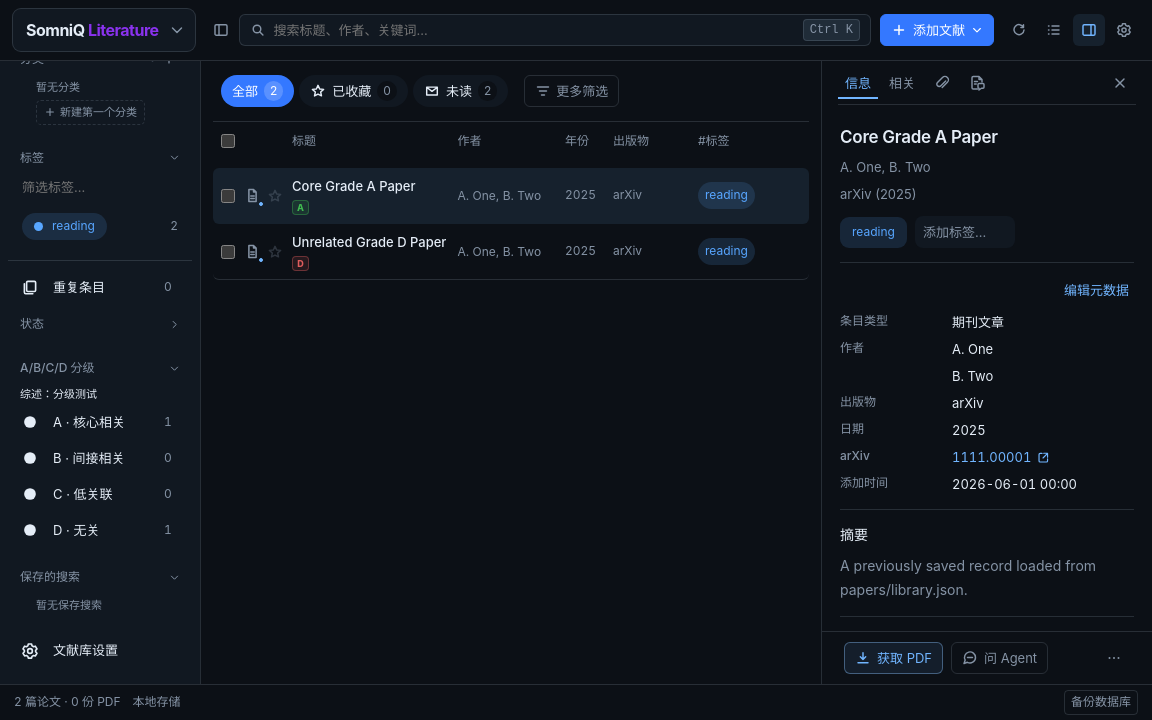
it: Literature library › shows persisted workflow A/B/C/D classifications as library filters
(page scrolled)
Expected: the text "A/B/C/D 分级" is shown, [20,360,95,376]
Expected: the text "综述：分级测试" is shown, [20,387,97,401]
What coordinates should you click on to do the following:
click the button "D · 无关 1"
I would click on:
 (100, 530)
Its box is [8,512,192,548].
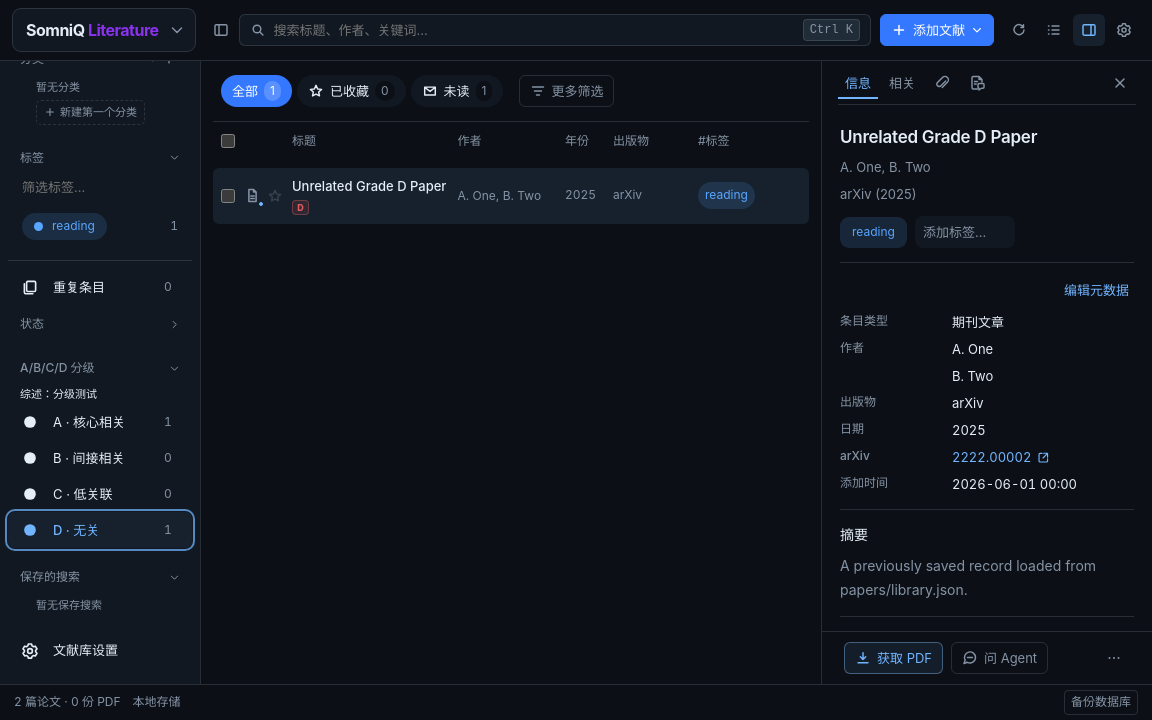
Expected: the text "Unrelated Grade D Paper" below "#标签" is shown, [292,178,446,194]
Result: the text "Core Grade A Paper" is gone
Result: the element named "综述：分级测试 · D 级文献" is shown at [201,61,821,684]
